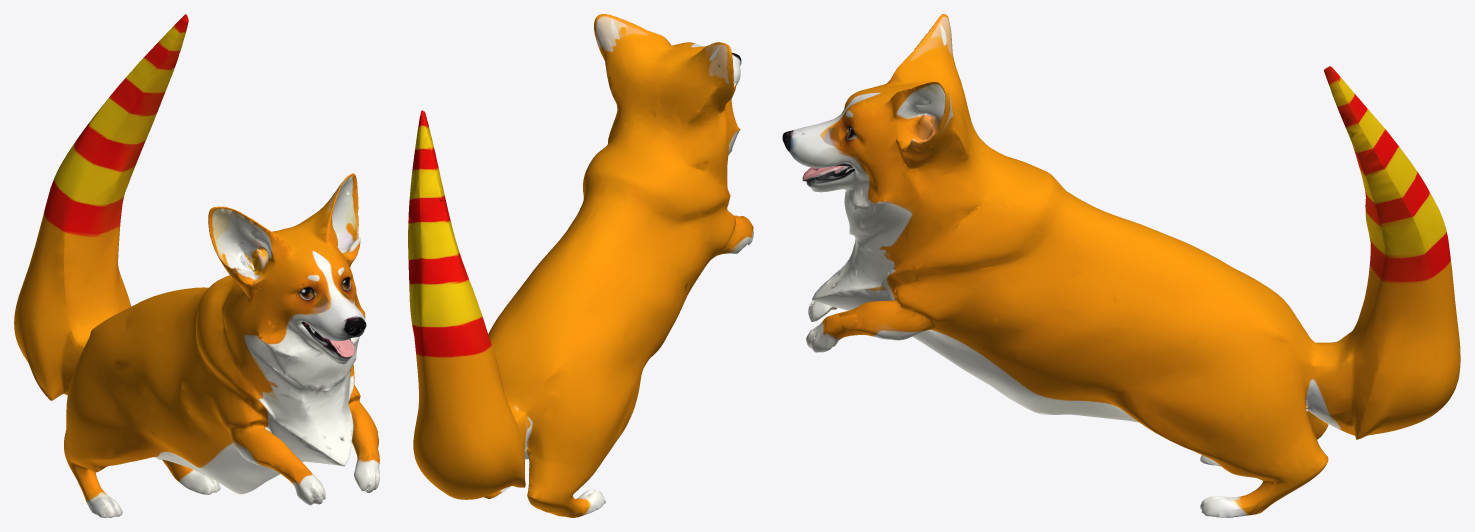
File: traffic-cone-corgi-8246.glb
The picture shows the model from 3 angles, left to right: view 1: azimuth 30°, elevation 25°; view 2: azimuth 150°, elevation 25°; view 3: azimuth 270°, elevation 25°; orthographic projection. The views are drawn at different scales.
Size of the model in its own units: 0.5505 by 1.44 by 1.91.
1 material, 1 textured.
